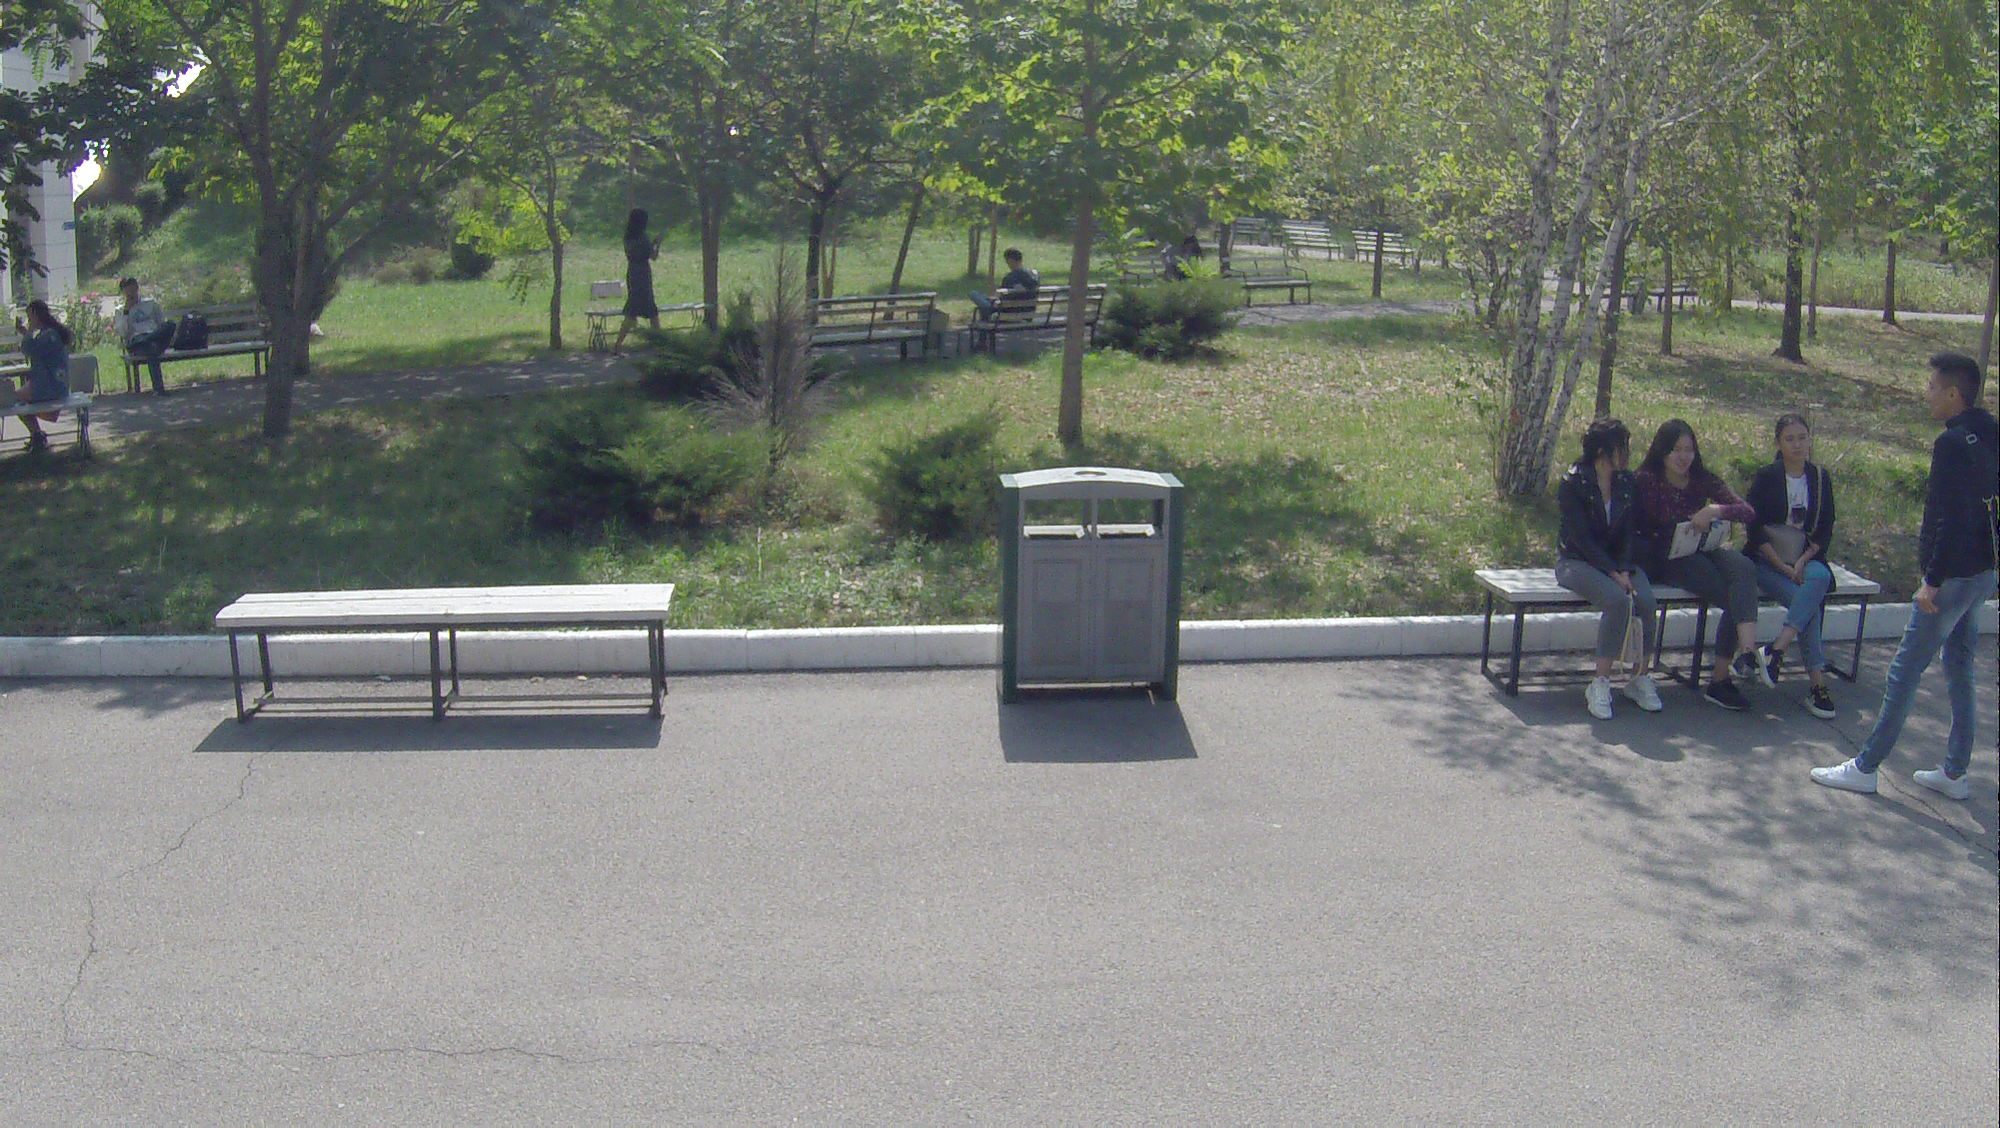person: (1824, 360, 2000, 801), (1635, 405, 1764, 726), (1564, 422, 1666, 726), (1755, 412, 1849, 720), (1, 295, 78, 460), (968, 237, 1039, 370), (612, 210, 670, 370), (110, 272, 172, 393)
